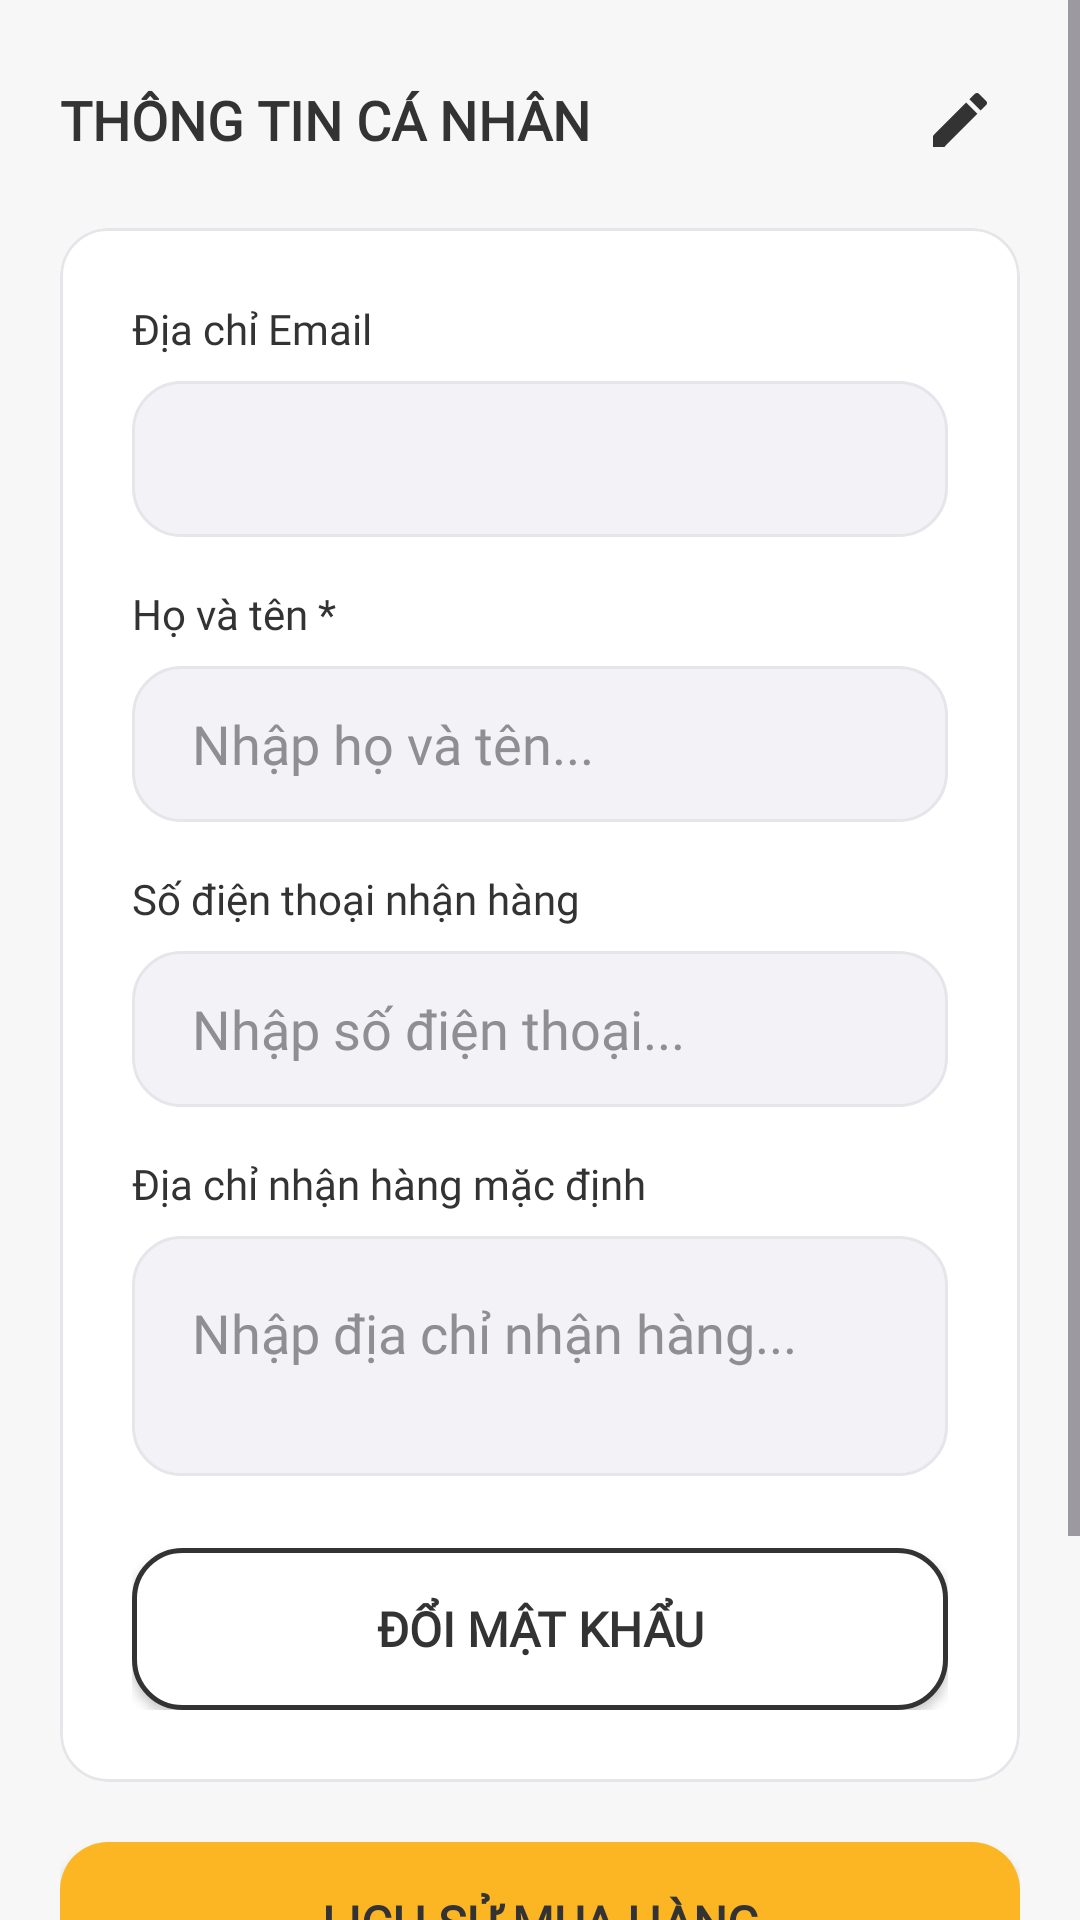

Screen size 1080px×1920px. Icon name, then its center in pixels as (x=x, y=y):
Nút Chỉnh sửa: (x=960, y=120)
